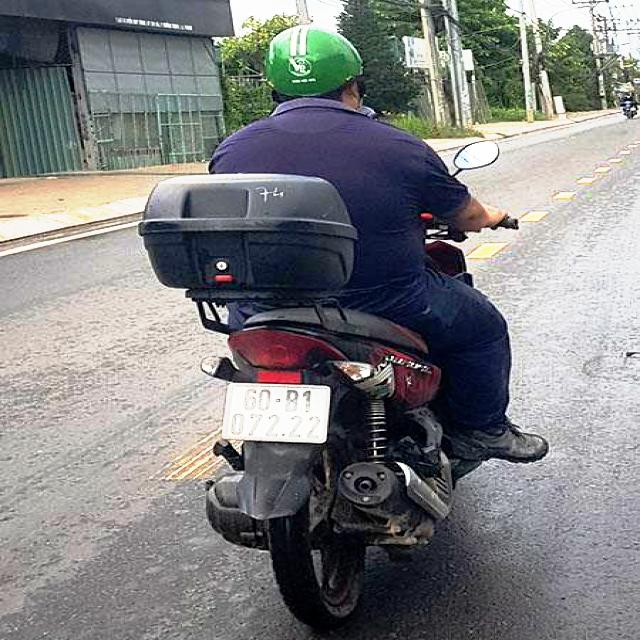license_plate: (222, 383, 333, 445)
